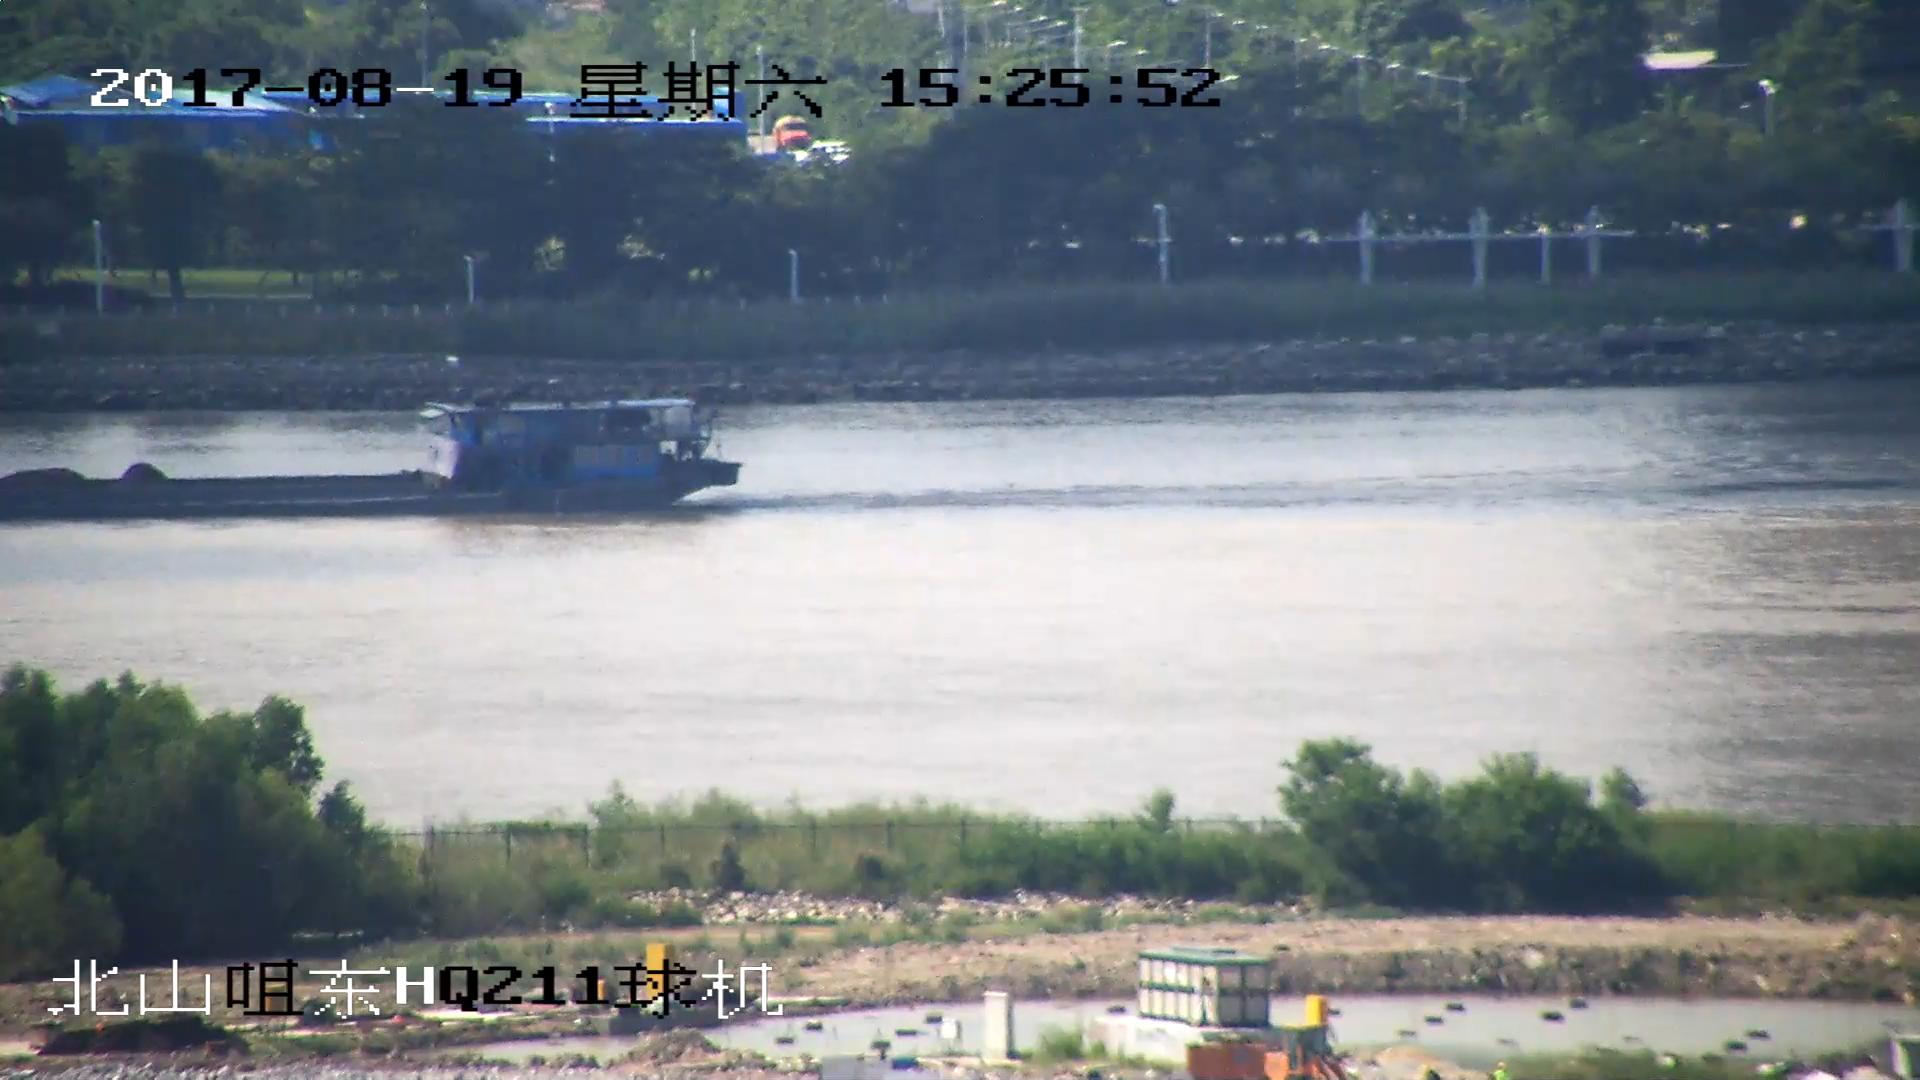ore carrier: (1, 389, 750, 522)
